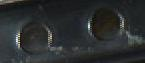joints: (14, 18, 59, 56), (84, 3, 126, 42)
